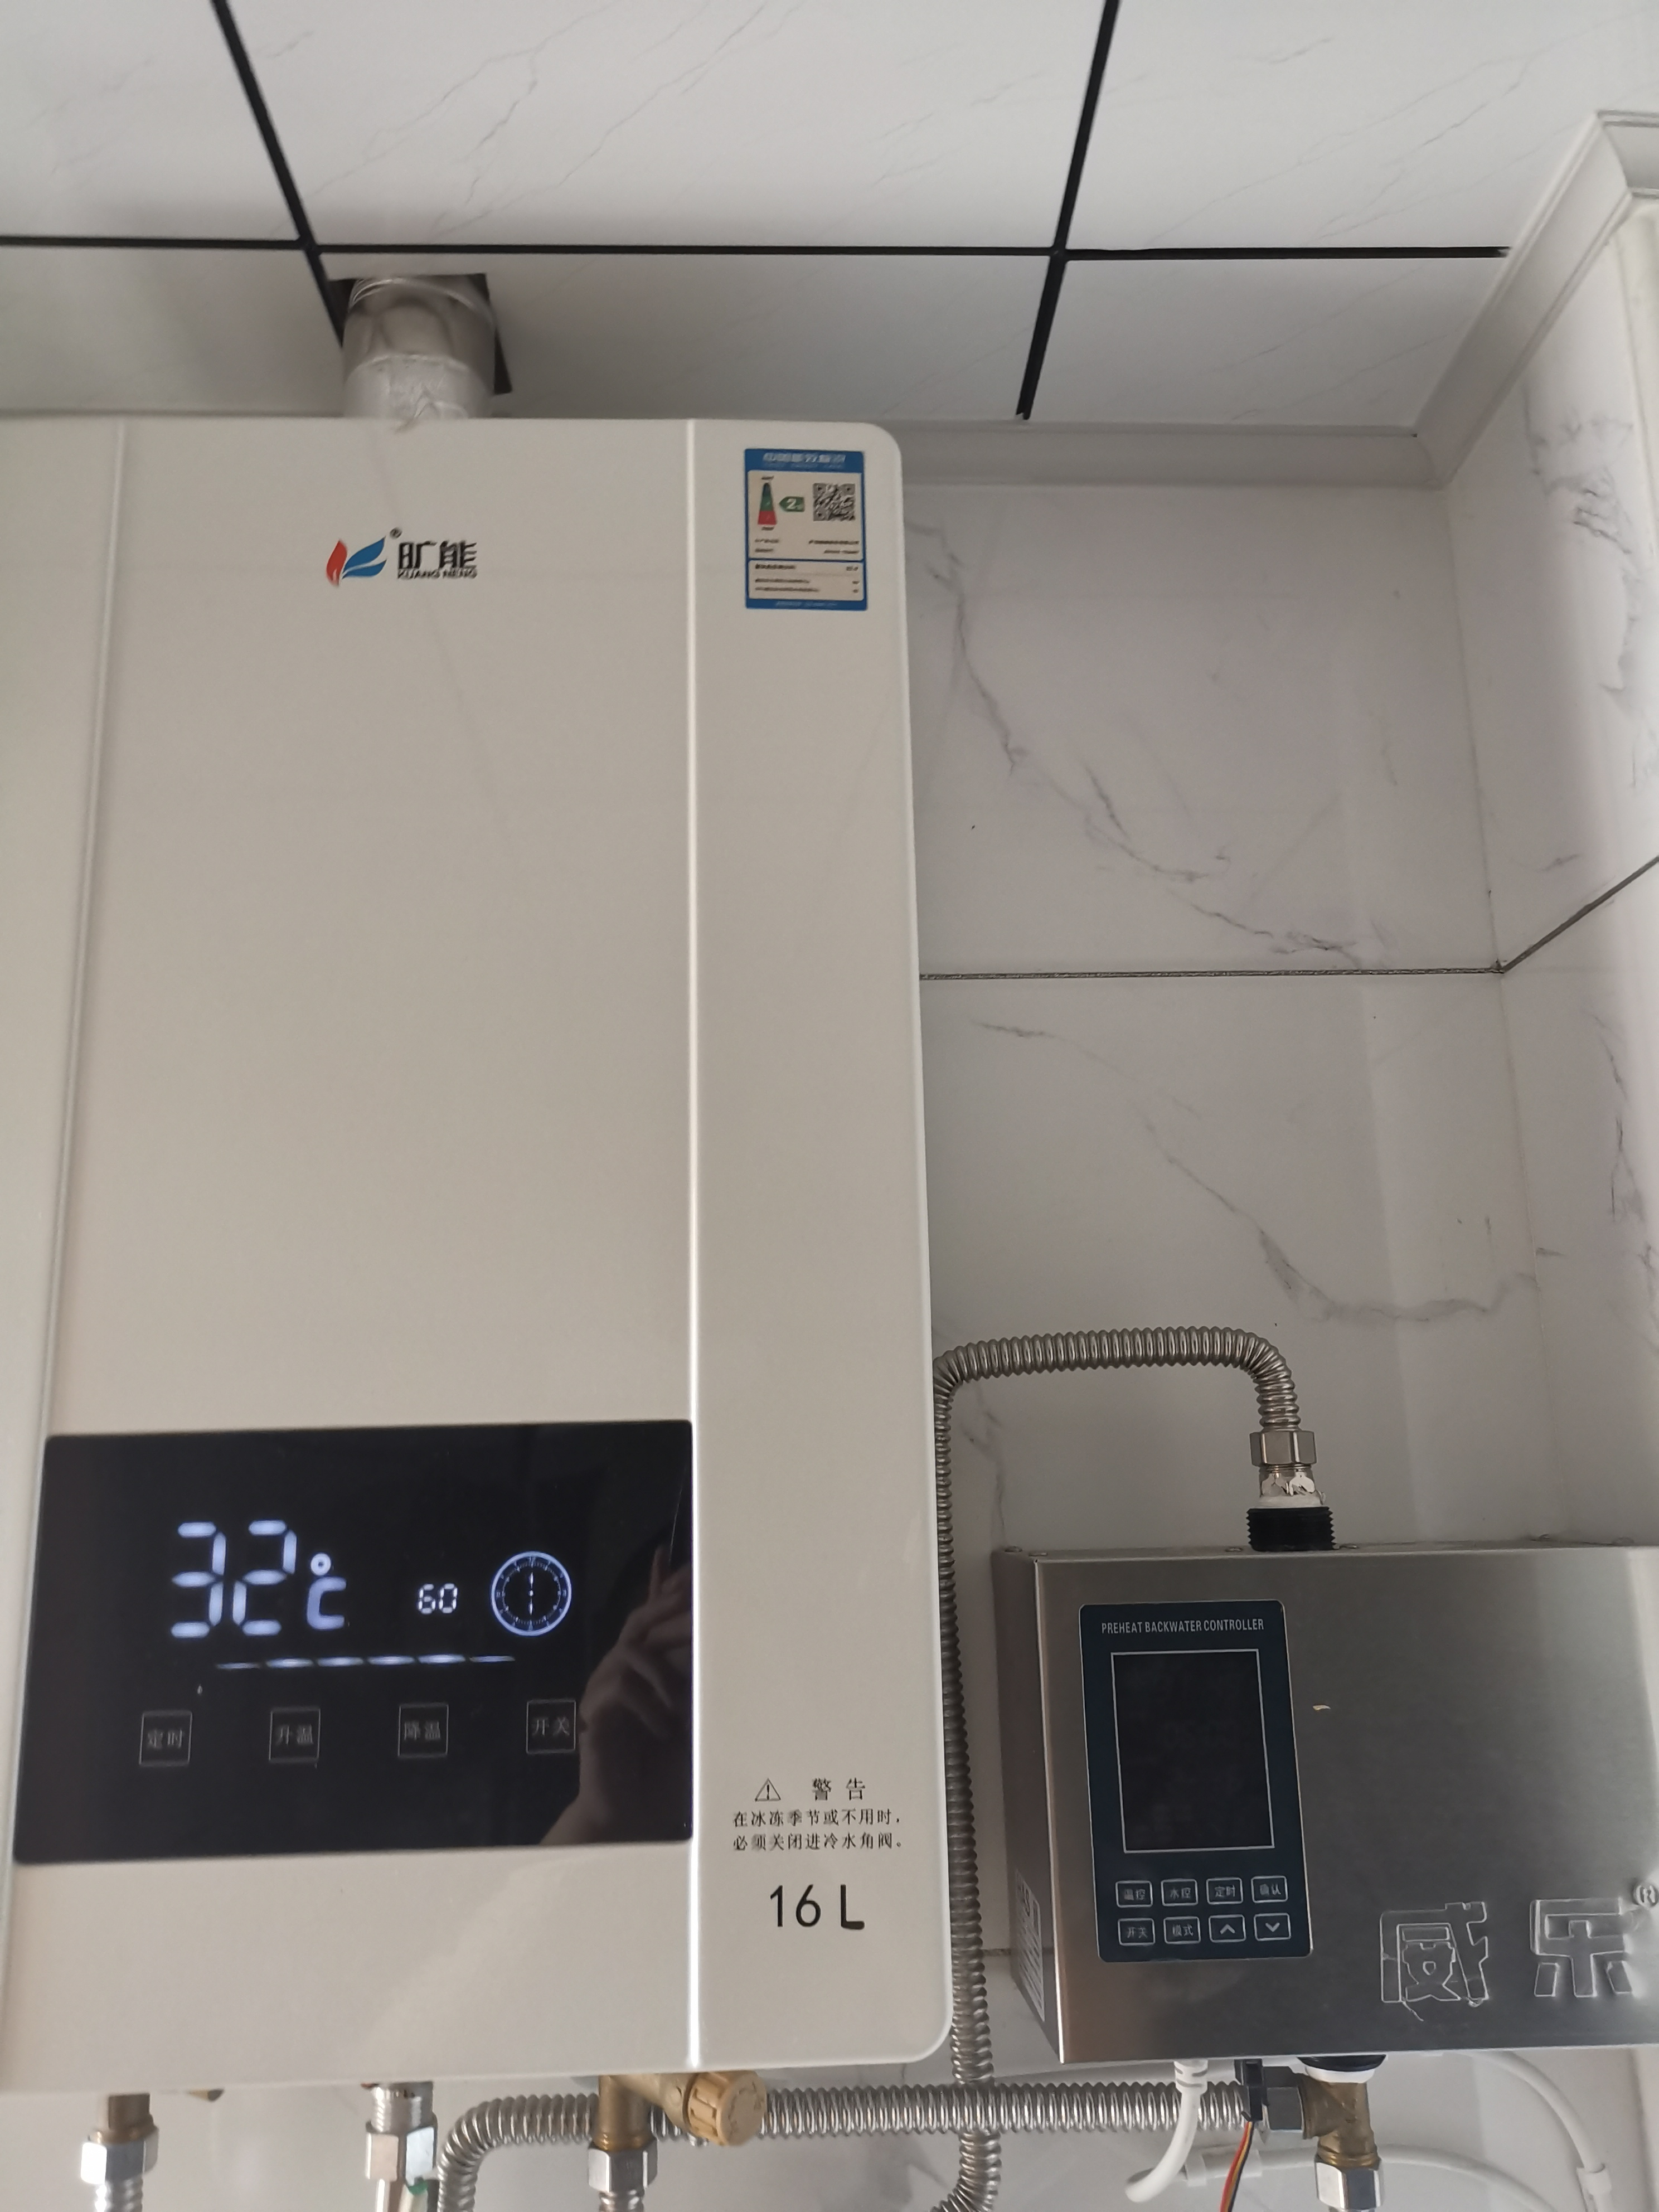loudou: (315, 517, 512, 610)
